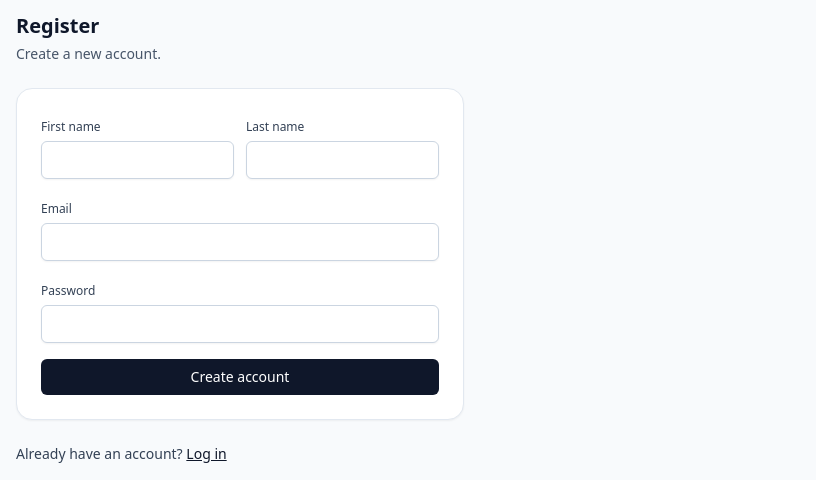
it: RegisterPage › shows an error toast when registration fails
In the field labelled "First name": (138, 160) [41,141,234,179], type "Alice"
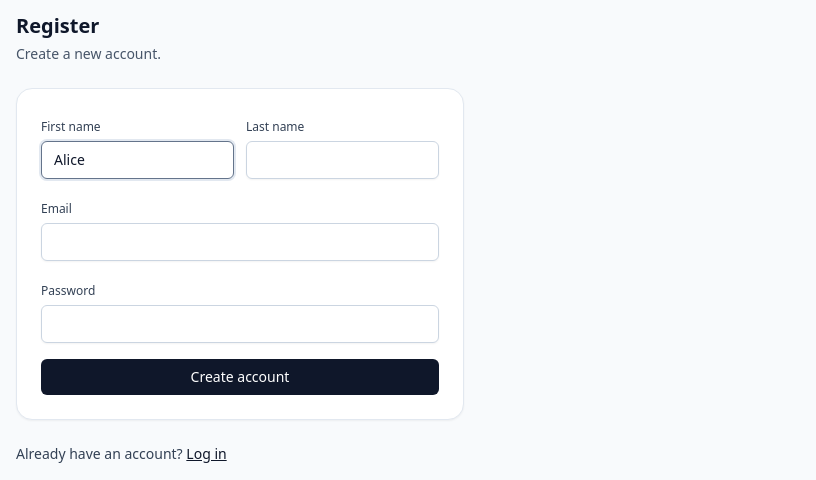
In the field labelled "Last name": (342, 160) [246,141,439,179], type "Smith"
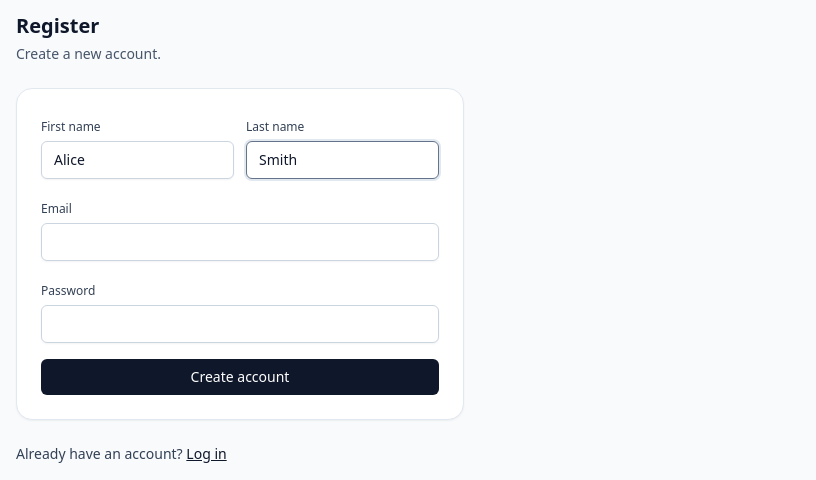
In the field labelled "Email": (240, 242) [41,223,439,261], type "user@example.com"
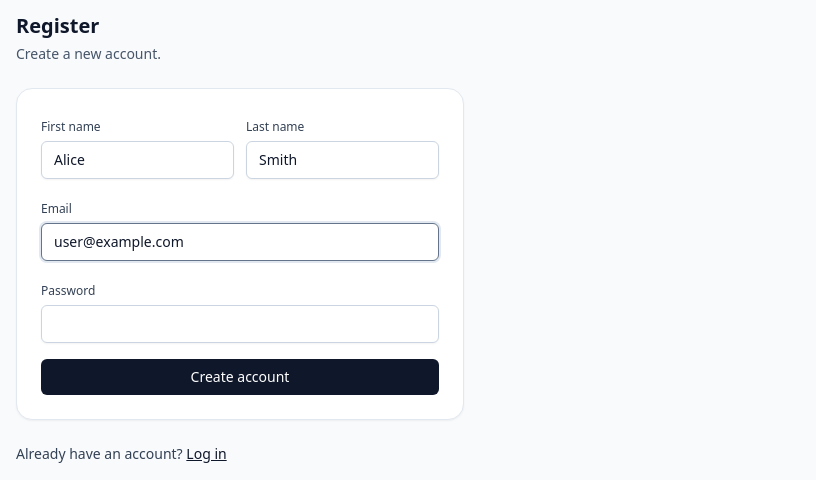
In the password field labelled "Password": (240, 324) [41,305,439,343], type "secret1"
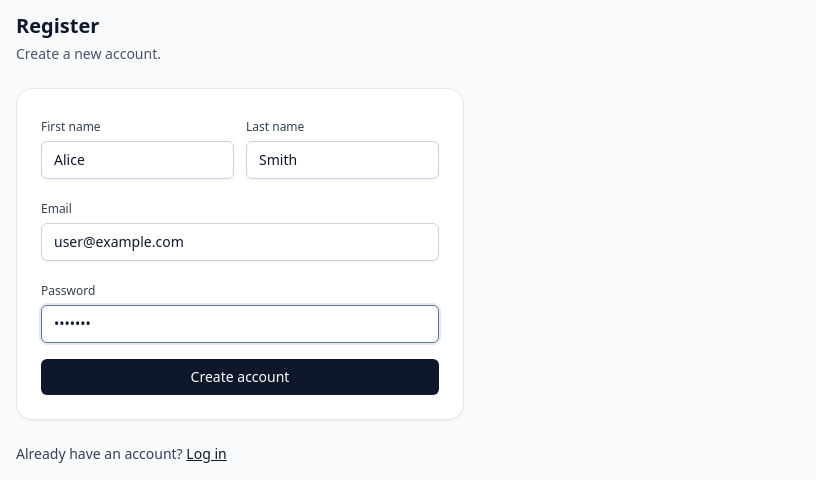
Click the button "Create account": click(240, 377) [41,359,439,395]
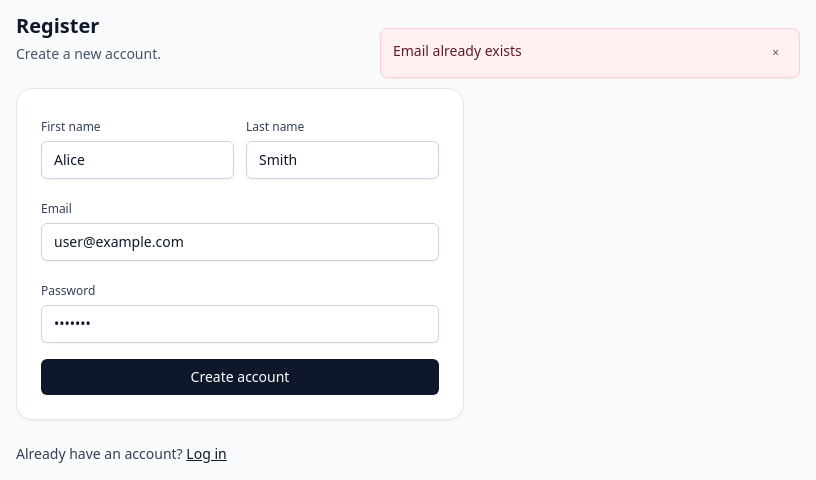
Expected: the heading "Register" is shown, [16,12,99,39]
Now the text "Email already exists" is shown, box [393,41,522,60]
